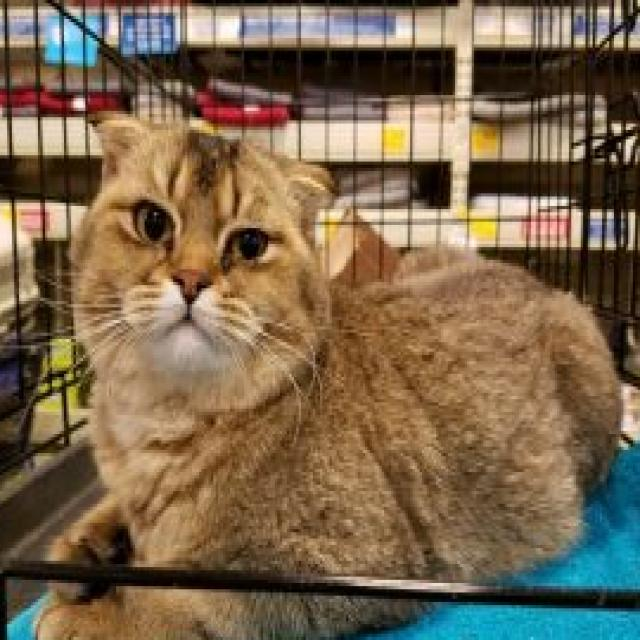Scottish Fold: (31, 104, 626, 640)
